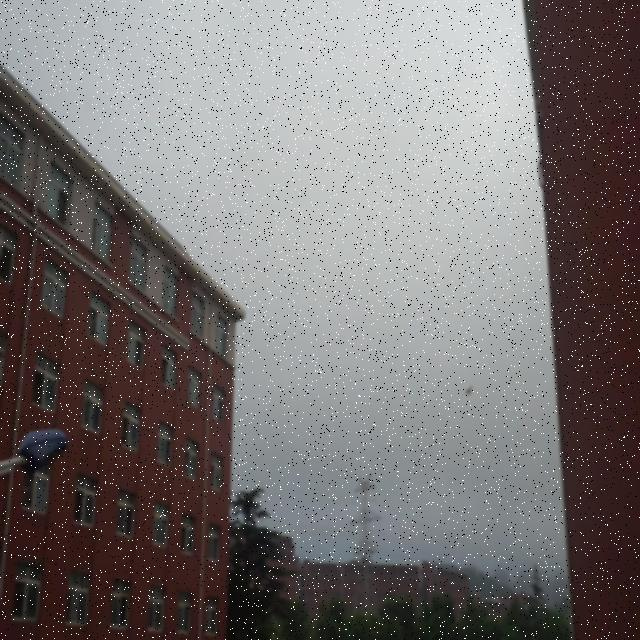UAV: (464, 385, 473, 397)
